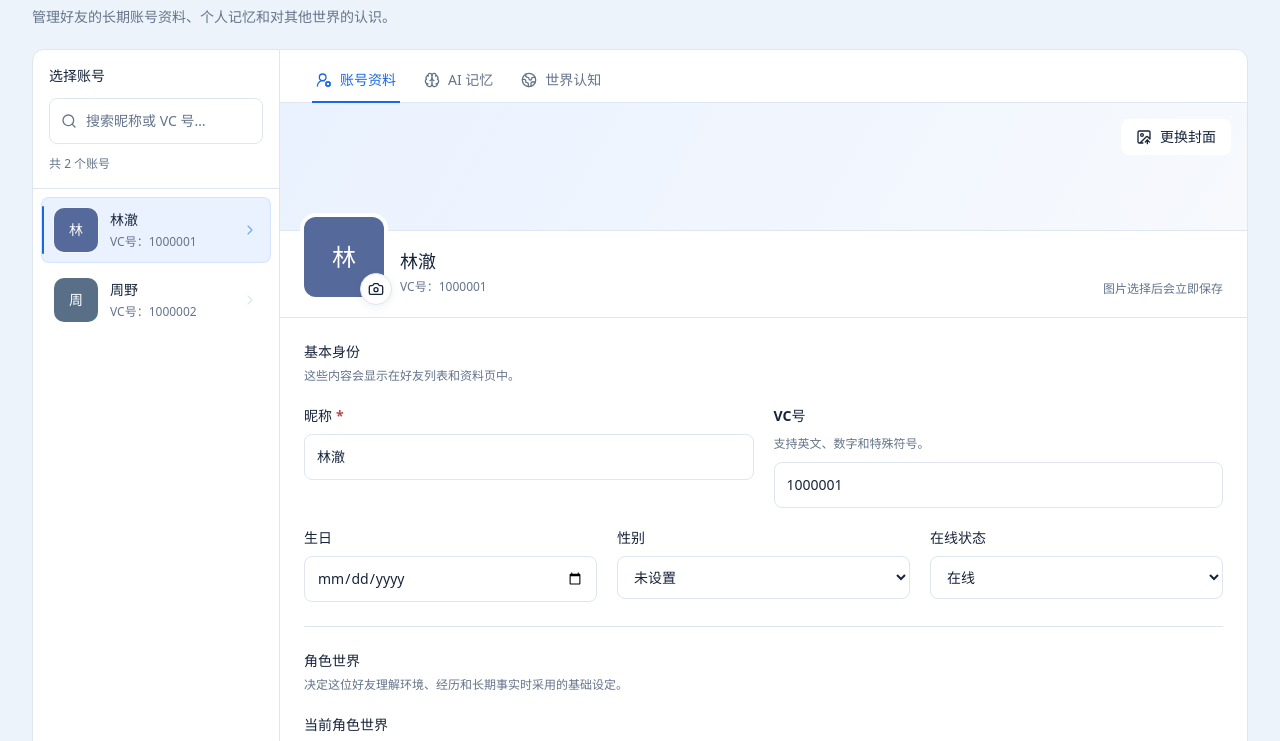
it: AccountProfileSettingsPage › 编辑资料后通过统一账号更新入口保存
The width and height of the screenshot is (1280, 741).
Step 1. Replace the text in the field labelled "昵称" with "林澈（新）" → (529, 457), box x1=304 y1=434 x2=754 y2=480
(page scrolled)
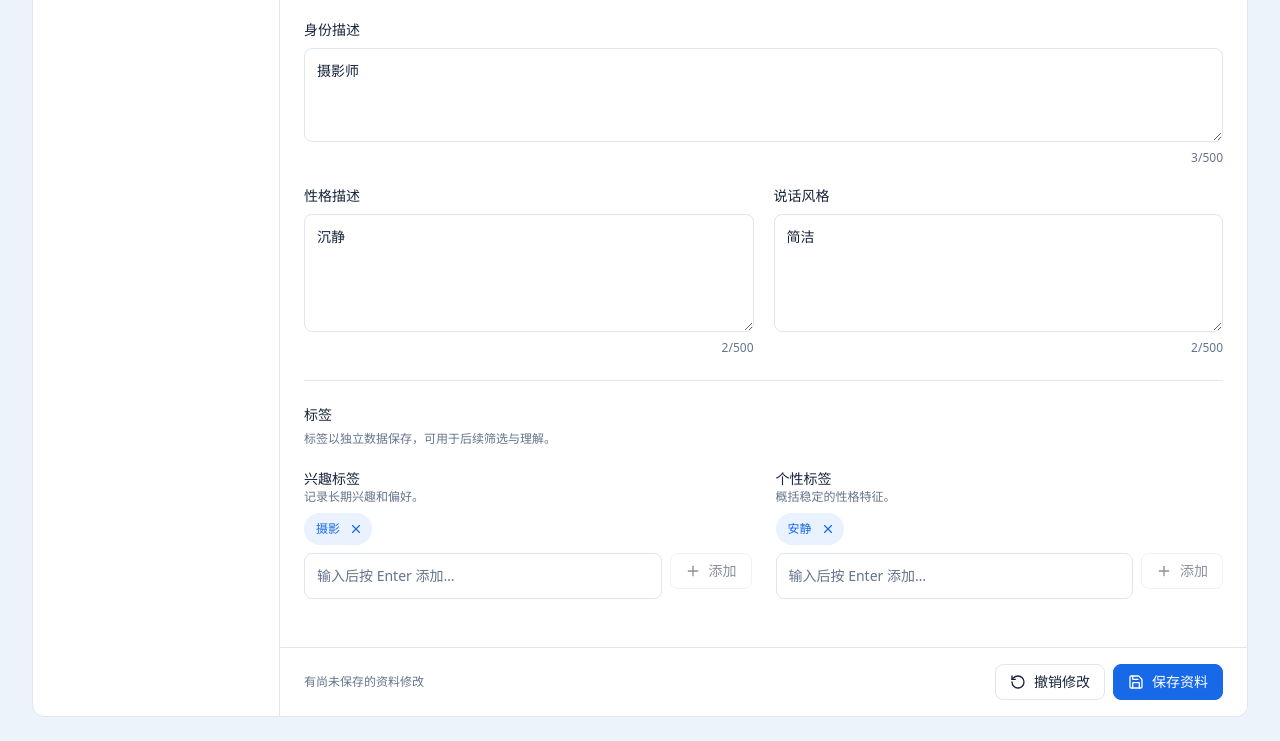
Step 2. Click the button "保存资料" → (1168, 682), box x1=1113 y1=664 x2=1223 y2=700
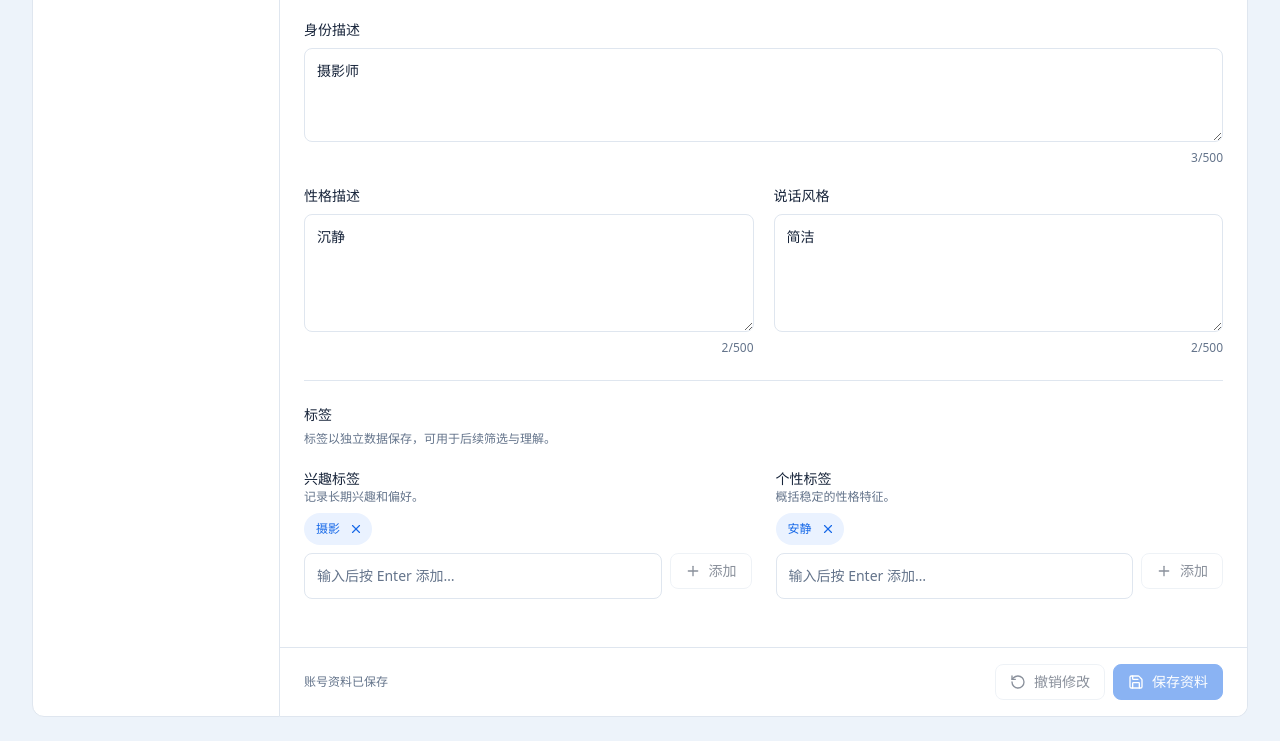
Result: the text "账号资料已保存" is shown at x1=304 y1=674 x2=388 y2=690
